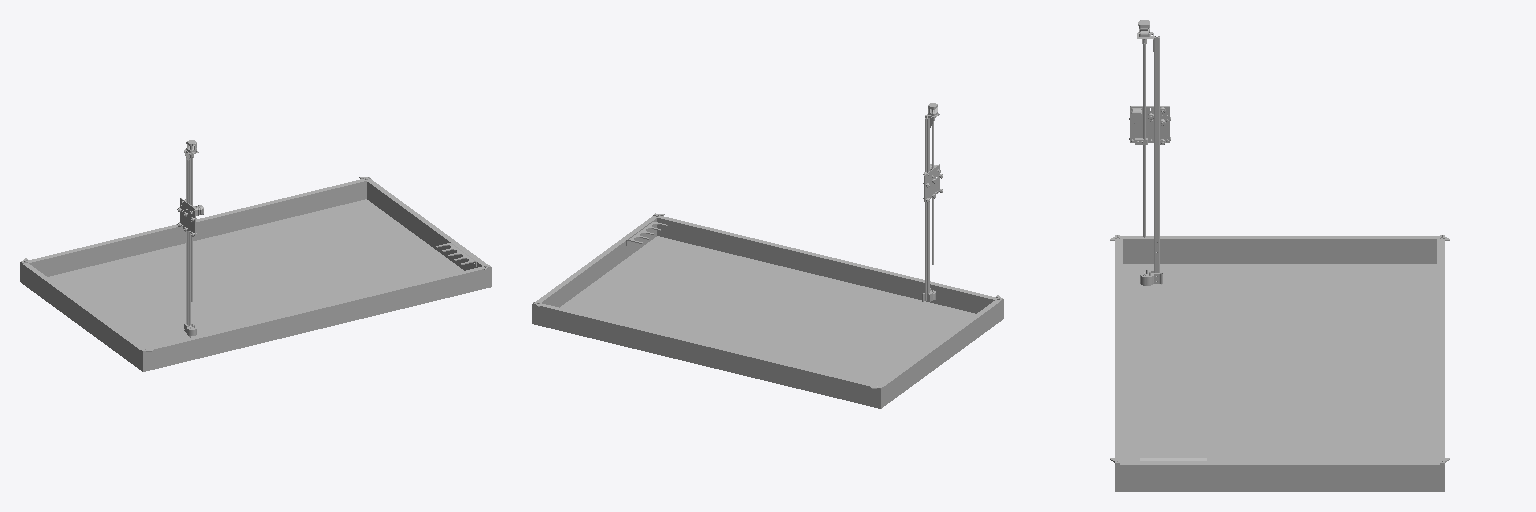
The robot description file, URDF, robot "xbot":
<?xml version="1.0"?>
<!-- This URDF was automatically created by SolidWorks to URDF Exporter! Originally created by [author] ([email redacted]) 
     Commit Version: 1.5.1-0-g916b5db  Build Version: 1.5.7152.31018
     For more information, please see http://wiki.ros.org/sw_urdf_exporter -->
<robot
  name="xbot">
  <link name="world"/>
  <joint name="base_joint" type="fixed">
    <parent link="world"/>
    <child link="link_1"/>
    <origin rpy="0 0 0" xyz="0.0 0.0 0.0"/>
  </joint>
  <link
    name="link_1">
    <inertial>
      <origin
        xyz="1.00198620157929 0.609175706788616 0.0292431619584773"
        rpy="0 0 0" />
      <mass
        value="43.4676318910242" />
      <inertia
        ixx="8.10475008921581"
        ixy="-0.000249588131759327"
        ixz="5.43020685210224E-05"
        iyy="18.9343407108612"
        iyz="-1.69094685950676E-05"
        izz="26.9425186759554" />
    </inertial>
    <visual>
      <origin
        xyz="0 0 0"
        rpy="0 0 0" />
      <geometry>
        <mesh
          filename="package://paket_ppp/meshes/link_1.STL" />
      </geometry>
      <material
        name="">
        <color
          rgba="0.752941176470588 0.752941176470588 0.752941176470588 1" />
      </material>
    </visual>
    <collision>
      <origin
        xyz="0 0 0"
        rpy="0 0 0" />
      <geometry>
        <mesh
          filename="package://paket_ppp/meshes/link_1.STL" />
      </geometry>
    </collision>
  </link>
  <link
    name="link_2">
    <inertial>
      <origin
        xyz="0.236150009919161 0.609999999992692 0.406575808145582"
        rpy="0 0 0" />
      <mass
        value="1.51082085685831" />
      <inertia
        ixx="0.0697296039888597"
        ixy="-1.51195943056285E-09"
        ixz="-0.000104503561819603"
        iyy="0.0111134065054738"
        iyz="-1.32873939131292E-09"
        izz="0.0623776617961707" />
    </inertial>
    <visual>
      <origin
        xyz="0 0 0"
        rpy="0 0 0" />
      <geometry>
        <mesh
          filename="package://paket_ppp/meshes/link_2.STL" />
      </geometry>
      <material
        name="">
        <color
          rgba="0.752941176470588 0.752941176470588 0.752941176470588 1" />
      </material>
    </visual>
    <collision>
      <origin
        xyz="0 0 0"
        rpy="0 0 0" />
      <geometry>
        <mesh
          filename="package://paket_ppp/meshes/link_2.STL" />
      </geometry>
    </collision>
  </link>
  <joint
    name="joint_1"
    type="prismatic">
    <origin
      xyz="0.05 0 0.102"
      rpy="0 0 0" />
    <parent
      link="link_1" />
    <child
      link="link_2" />
    <axis
      xyz="1 0 0" />
    <limit
      lower="0"
      upper="1.55"
      effort="0"
      velocity="0" />
  </joint>
  <link
    name="link_3">
    <inertial>
      <origin
        xyz="0.0112189791275465 0.060599104578761 -0.0583148463231686"
        rpy="0 0 0" />
      <mass
        value="0.255847911244318" />
      <inertia
        ixx="0.000435674548808046"
        ixy="7.96825029359971E-10"
        ixz="1.76478749755619E-07"
        iyy="0.000235214971456426"
        iyz="-5.06984239675163E-07"
        izz="0.000236110679414095" />
    </inertial>
    <visual>
      <origin
        xyz="0 0 0"
        rpy="0 0 0" />
      <geometry>
        <mesh
          filename="package://paket_ppp/meshes/link_3.STL" />
      </geometry>
      <material
        name="">
        <color
          rgba="0.752941176470588 0.752941176470588 0.752941176470588 1" />
      </material>
    </visual>
    <collision>
      <origin
        xyz="0 0 0"
        rpy="0 0 0" />
      <geometry>
        <mesh
          filename="package://paket_ppp/meshes/link_3.STL" />
      </geometry>
    </collision>
  </link>
  <joint
    name="joint_2"
    type="prismatic">
    <origin
      xyz="0.2815 0.055 0.68833"
      rpy="0 0 0" />
    <parent
      link="link_2" />
    <child
      link="link_3" />
    <axis
      xyz="0 1 0" />
    <limit
      lower="0"
      upper="0.96"
      effort="0"
      velocity="0" />
  </joint>
  <link
    name="link_4">
    <inertial>
      <origin
        xyz="-0.0127275235400623 -0.0305805506555025 -0.401269048621174"
        rpy="0 0 0" />
      <mass
        value="0.37880498166476" />
      <inertia
        ixx="0.0158516273952885"
        ixy="3.18338785791666E-06"
        ixz="7.95550928858643E-07"
        iyy="0.0158397711055371"
        iyz="5.29669102793283E-06"
        izz="7.33037209800267E-05" />
    </inertial>
    <visual>
      <origin
        xyz="0 0 0"
        rpy="0 0 0" />
      <geometry>
        <mesh
          filename="package://paket_ppp/meshes/link_4.STL" />
      </geometry>
      <material
        name="">
        <color
          rgba="0.752941176470588 0.752941176470588 0.752941176470588 1" />
      </material>
    </visual>
    <collision>
      <origin
        xyz="0 0 0"
        rpy="0 0 0" />
      <geometry>
        <mesh
          filename="package://paket_ppp/meshes/link_4.STL" />
      </geometry>
    </collision>
  </link>
  <joint
    name="joint_3"
    type="prismatic">
    <origin
      xyz="0.026501 0.10817 0.2945"
      rpy="0 0 0" />
    <parent
      link="link_3" />
    <child
      link="link_4" />
    <axis
      xyz="0 0 1" />
    <limit
      lower="0"
      upper="0.3"
      effort="0"
      velocity="0" />
  </joint>
  <link
    name="camera">
    <inertial>
      <origin
        xyz="9.65338919911574E-14 -8.97643070985055E-13 -0.00569801980221664"
        rpy="0 0 0" />
      <mass
        value="0.00071392693052828" />
      <inertia
        ixx="1.1610281032167E-08"
        ixy="-8.05558671411072E-25"
        ixz="7.50946706517619E-25"
        iyy="1.1610281032167E-08"
        iyz="3.73271017408366E-23"
        izz="6.81499803857008E-09" />
    </inertial>
    <visual>
      <origin
        xyz="0 0 0"
        rpy="0 0 0" />
      <geometry>
        <mesh
          filename="package://paket_ppp/meshes/camera.STL" />
      </geometry>
      <material
        name="">
        <color
          rgba="1 1 1 1" />
      </material>
    </visual>
    <collision>
      <origin
        xyz="0 0 0"
        rpy="0 0 0" />
      <geometry>
        <mesh
          filename="package://paket_ppp/meshes/camera.STL" />
      </geometry>
    </collision>
  </link>
  <joint
    name="joint_4"
    type="continuous">
    <origin
      xyz="0.003 0.0092663 -0.99"
      rpy="0 0 0" />
    <parent
      link="link_4" />
    <child
      link="camera" />
    <axis
      xyz="0 0 -1" />
  </joint>

  <transmission name="tran1">
    <type>transmission_interface/SimpleTransmission</type>
    <joint name="joint_1">
      <hardwareInterface>hardware_interface/EffortJointInterface</hardwareInterface>
    </joint>
    <actuator name="motor1">
      <hardwareInterface>hardware_interface/EffortJointInterface</hardwareInterface>
      <mechanicalReduction>1</mechanicalReduction>
    </actuator>
  </transmission>

  <transmission name="tran2">
    <type>transmission_interface/SimpleTransmission</type>
    <joint name="joint_2">
      <hardwareInterface>hardware_interface/EffortJointInterface</hardwareInterface>
    </joint>
    <actuator name="motor2">
      <hardwareInterface>hardware_interface/EffortJointInterface</hardwareInterface>
      <mechanicalReduction>1</mechanicalReduction>
    </actuator>
  </transmission>

  <transmission name="tran3">
    <type>transmission_interface/SimpleTransmission</type>
    <joint name="joint_3">
      <hardwareInterface>hardware_interface/EffortJointInterface</hardwareInterface>
    </joint>
    <actuator name="motor3">
      <hardwareInterface>hardware_interface/EffortJointInterface</hardwareInterface>
      <mechanicalReduction>1</mechanicalReduction>
    </actuator>
  </transmission>

  <transmission name="tran4">
    <type>transmission_interface/SimpleTransmission</type>
    <joint name="joint_4">
      <hardwareInterface>hardware_interface/EffortJointInterface</hardwareInterface>
    </joint>
    <actuator name="motor4">
      <hardwareInterface>hardware_interface/EffortJointInterface</hardwareInterface>
      <mechanicalReduction>1</mechanicalReduction>
    </actuator>
  </transmission>


  
  <gazebo reference="link_1">
    <material>Gazebo/Orange</material>
  </gazebo>
  <gazebo reference="link_2">
    <mu1>0.2</mu1>
    <mu2>0.2</mu2>
    <material>Gazebo/Black</material>
  </gazebo>
  <gazebo reference="link_3">
    <mu1>0.2</mu1>
    <mu2>0.2</mu2>
    <material>Gazebo/Orange</material>
  </gazebo>
  <gazebo reference="link_4">
    <mu1>0.2</mu1>
    <mu2>0.2</mu2>
    <material>Gazebo/Black</material>
  </gazebo>
  <gazebo reference="camera">
    <mu1>0.2</mu1>
    <mu2>0.2</mu2>
    <material>Gazebo/Red</material>
  </gazebo>
  
  <!-- Camera Sensor -->
  <gazebo reference="camera">
    <sensor type="camera" name="camera_sensor">
      <pose> 0 0 0 0 0 0 </pose>
      <visualize>true</visualize>
      <update_rate>10</update_rate>
      <camera>
        <horizontal_fov>1.089</horizontal_fov>
        <image>
          <width>640</width>
          <height>480</height>
          <format>R8G8B8</format>
        </image>
        <clip>
          <near>0.1</near>
          <far>100.0</far>
        </clip>
      </camera>
      <plugin name="camera_controller" filename="libgazebo_ros_camera.so">
        <frame_name>camera</frame_name>
      </plugin>
    </sensor>
  </gazebo>
 

</robot> 

--- What the picture shows (computed from the rendered views, not written in the file) ---
Views: 3 orthographic renders of the robot side by side, from view 1: azimuth 30°, elevation 25°; view 2: azimuth 150°, elevation 25°; view 3: azimuth 270°, elevation 25°.
Model xbot with 6 links and 5 joints (1 continuous, 3 prismatic, 1 fixed), rooted at world, posed every joint at zero.
Links seen in each view (by area): view 1: link_1, link_4, link_3; view 2: link_1, link_4; view 3: link_1, link_4, link_3.
Boxes of the visible links, <box> form: link_1: <box>20,177,491,371</box>; link_4: <box>184,140,198,337</box>; link_3: <box>177,198,203,236</box>; link_1: <box>532,213,1003,408</box>; link_4: <box>922,103,939,301</box>; link_1: <box>1110,235,1449,491</box>; link_4: <box>1137,20,1162,285</box>; link_3: <box>1129,106,1170,144</box>.
Size in the robot's own frame: 2 by 1.26 by 1.14 metres.
4 mesh visuals loaded from 5 distinct referenced files (4 binary STL); not drawn: 1 (reference not matched to a file when rendering).